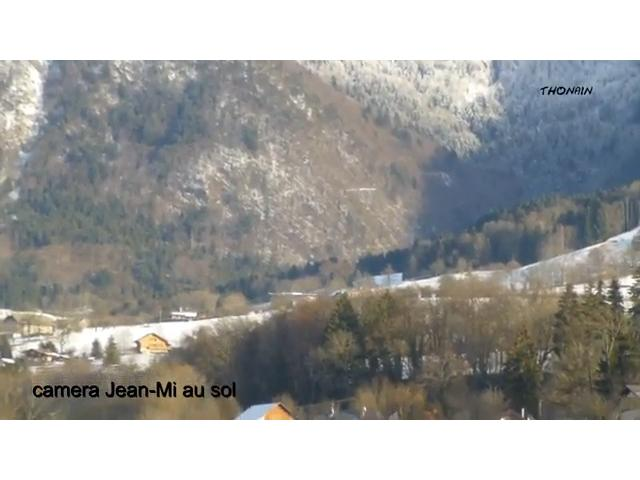Anti-Drone: (267, 284, 329, 307), (336, 180, 388, 202)
